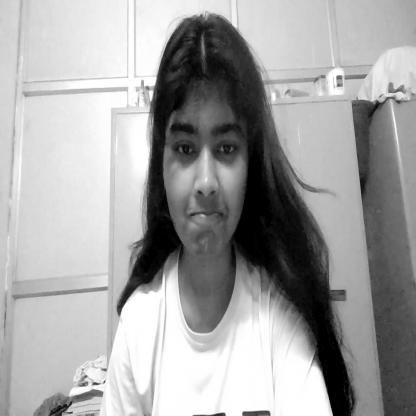Normal: (151, 17, 263, 266)
